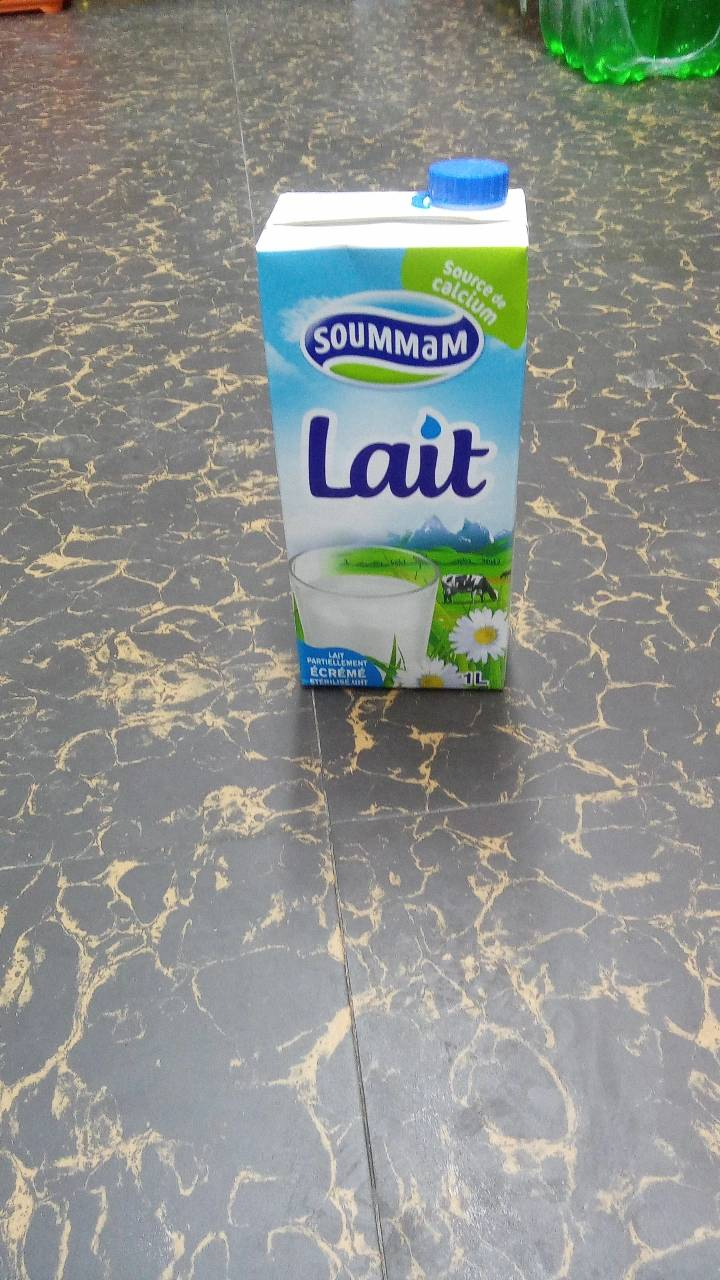soummam_milk: (247, 150, 537, 698)
